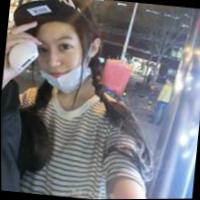WRONG: (32, 28, 88, 93)
